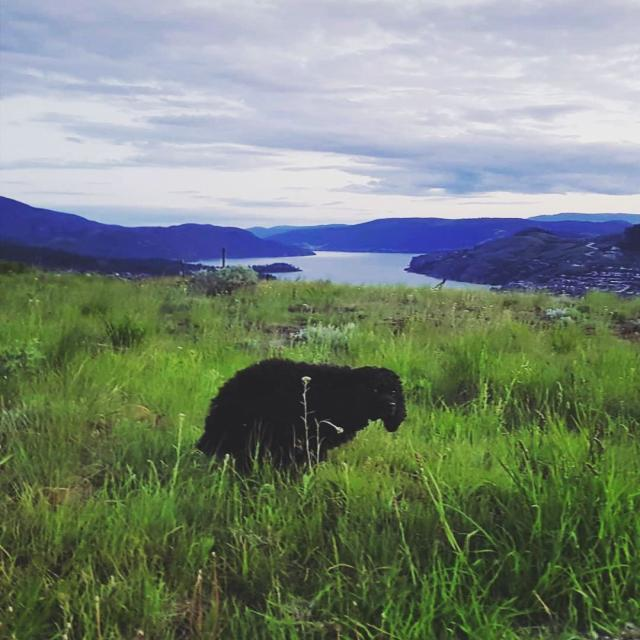squatting: (190, 352, 414, 485)
